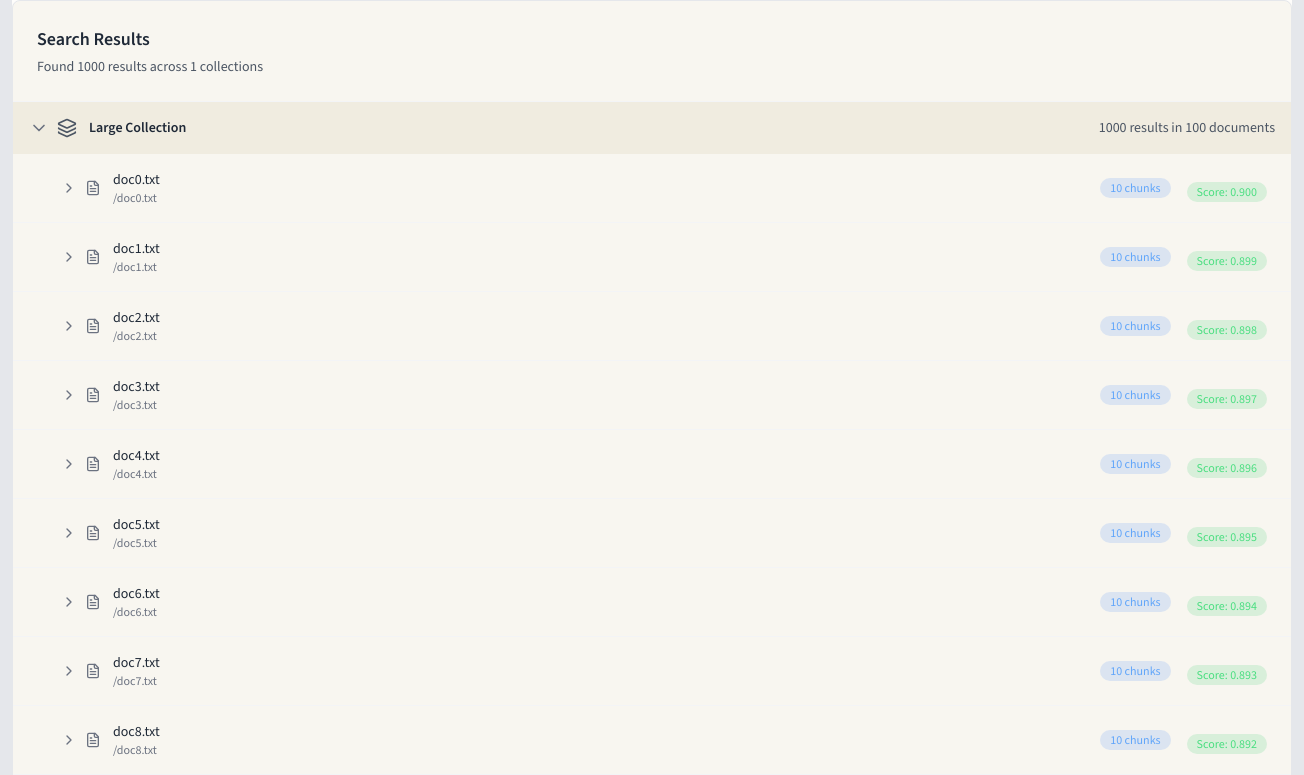
Scenario: Search Results - Validation and Partial Failure Handling › Result Validation and Display › should handle extremely large result sets
The image size is (1304, 775).
Expected: the text "Found 1000 results across 1 collections" is shown, [37,57,263,77]
Expected: the heading "Large Collection" is shown, [89,118,186,138]
Expand the first document
Click the text "doc0.txt" at coordinates (136, 180), box [61,170,1267,206]
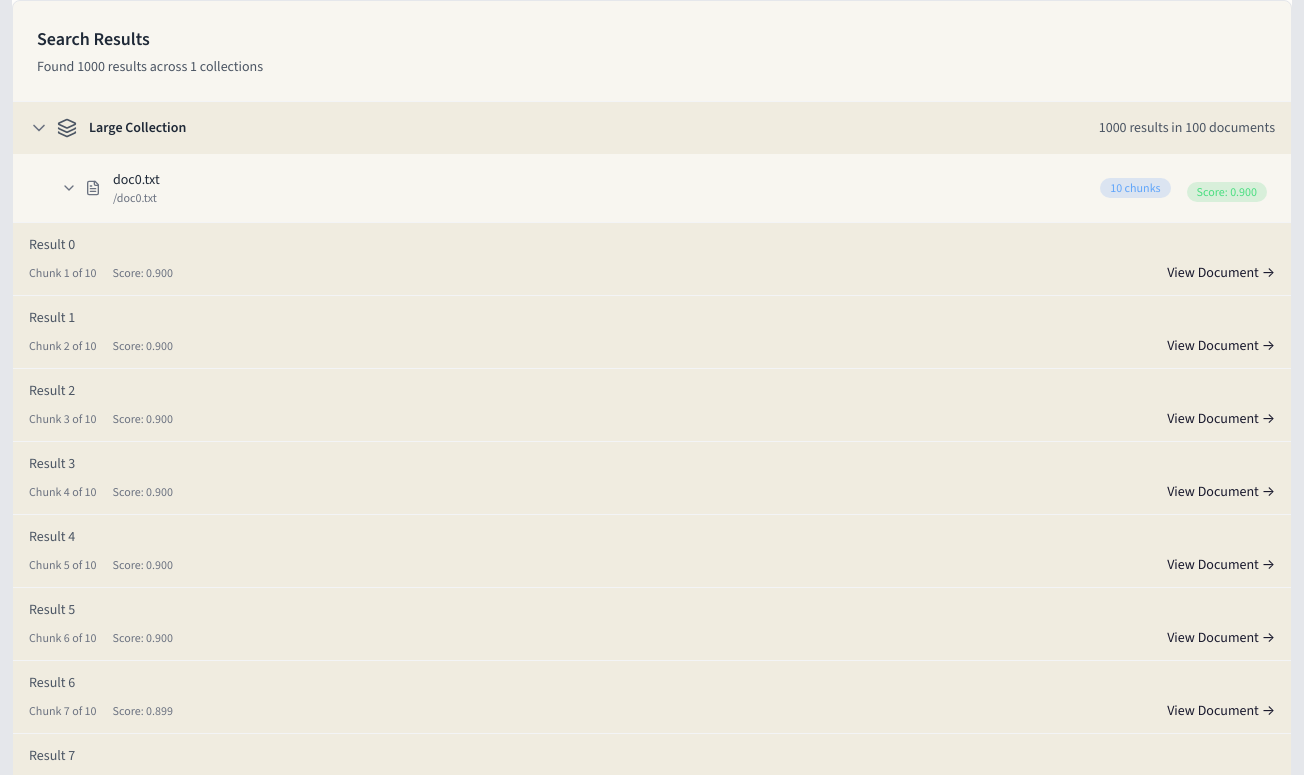
Now the text "Result 0" is shown, box [29,235,75,254]
